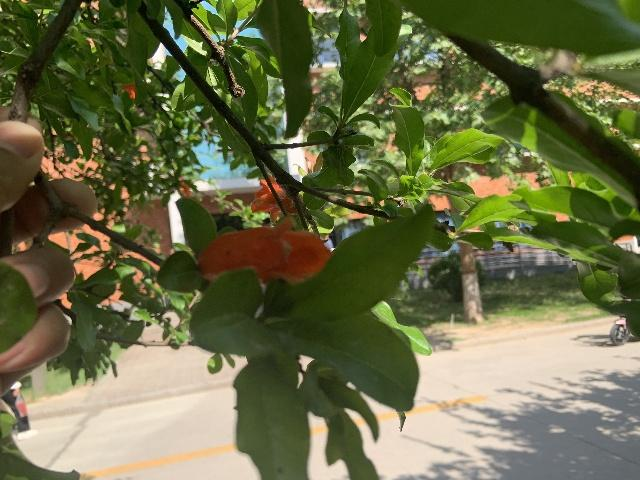flower: (197, 216, 333, 286), (250, 174, 300, 223)
